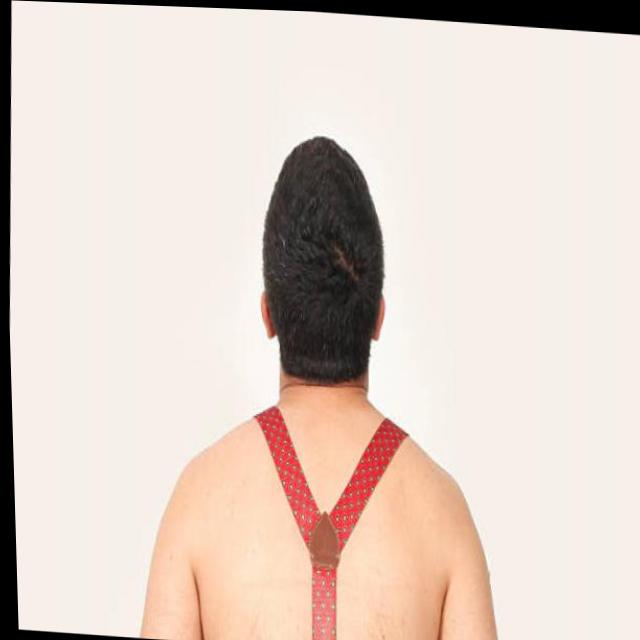no helmet: (249, 128, 393, 391)
